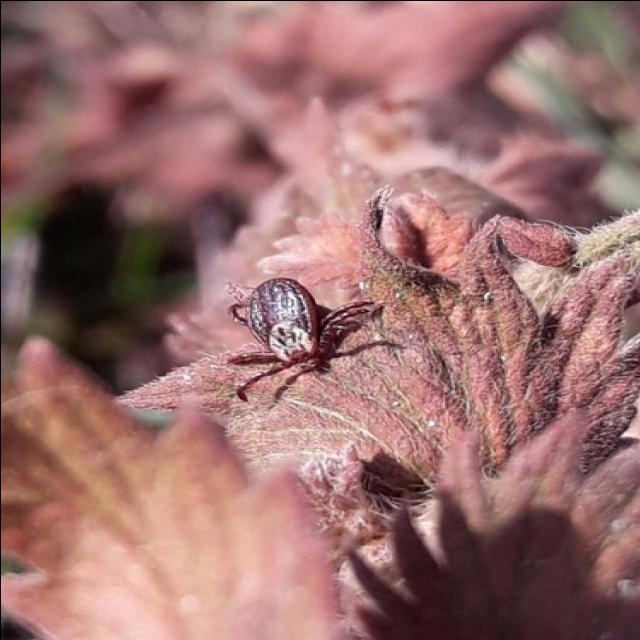Dermacentor Reticulatus-F: (225, 276, 370, 401)
